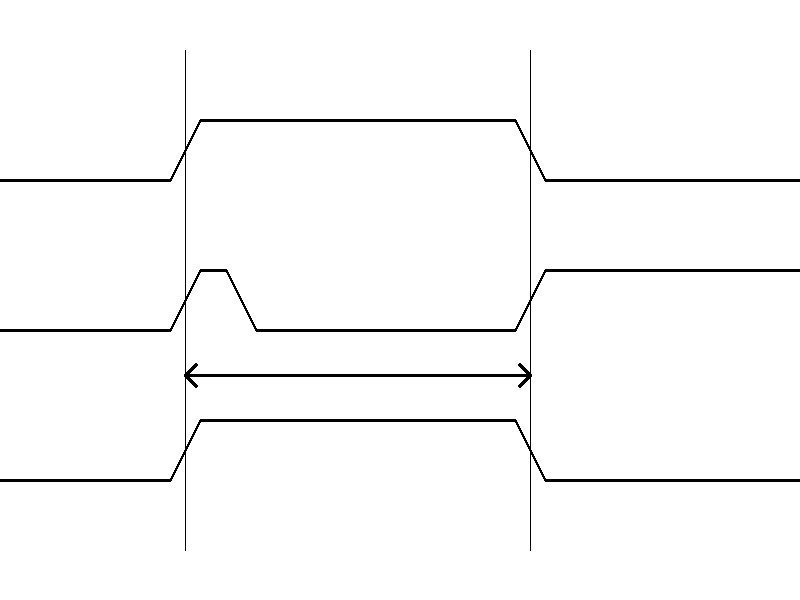double_arrow: (185, 360, 530, 390)
